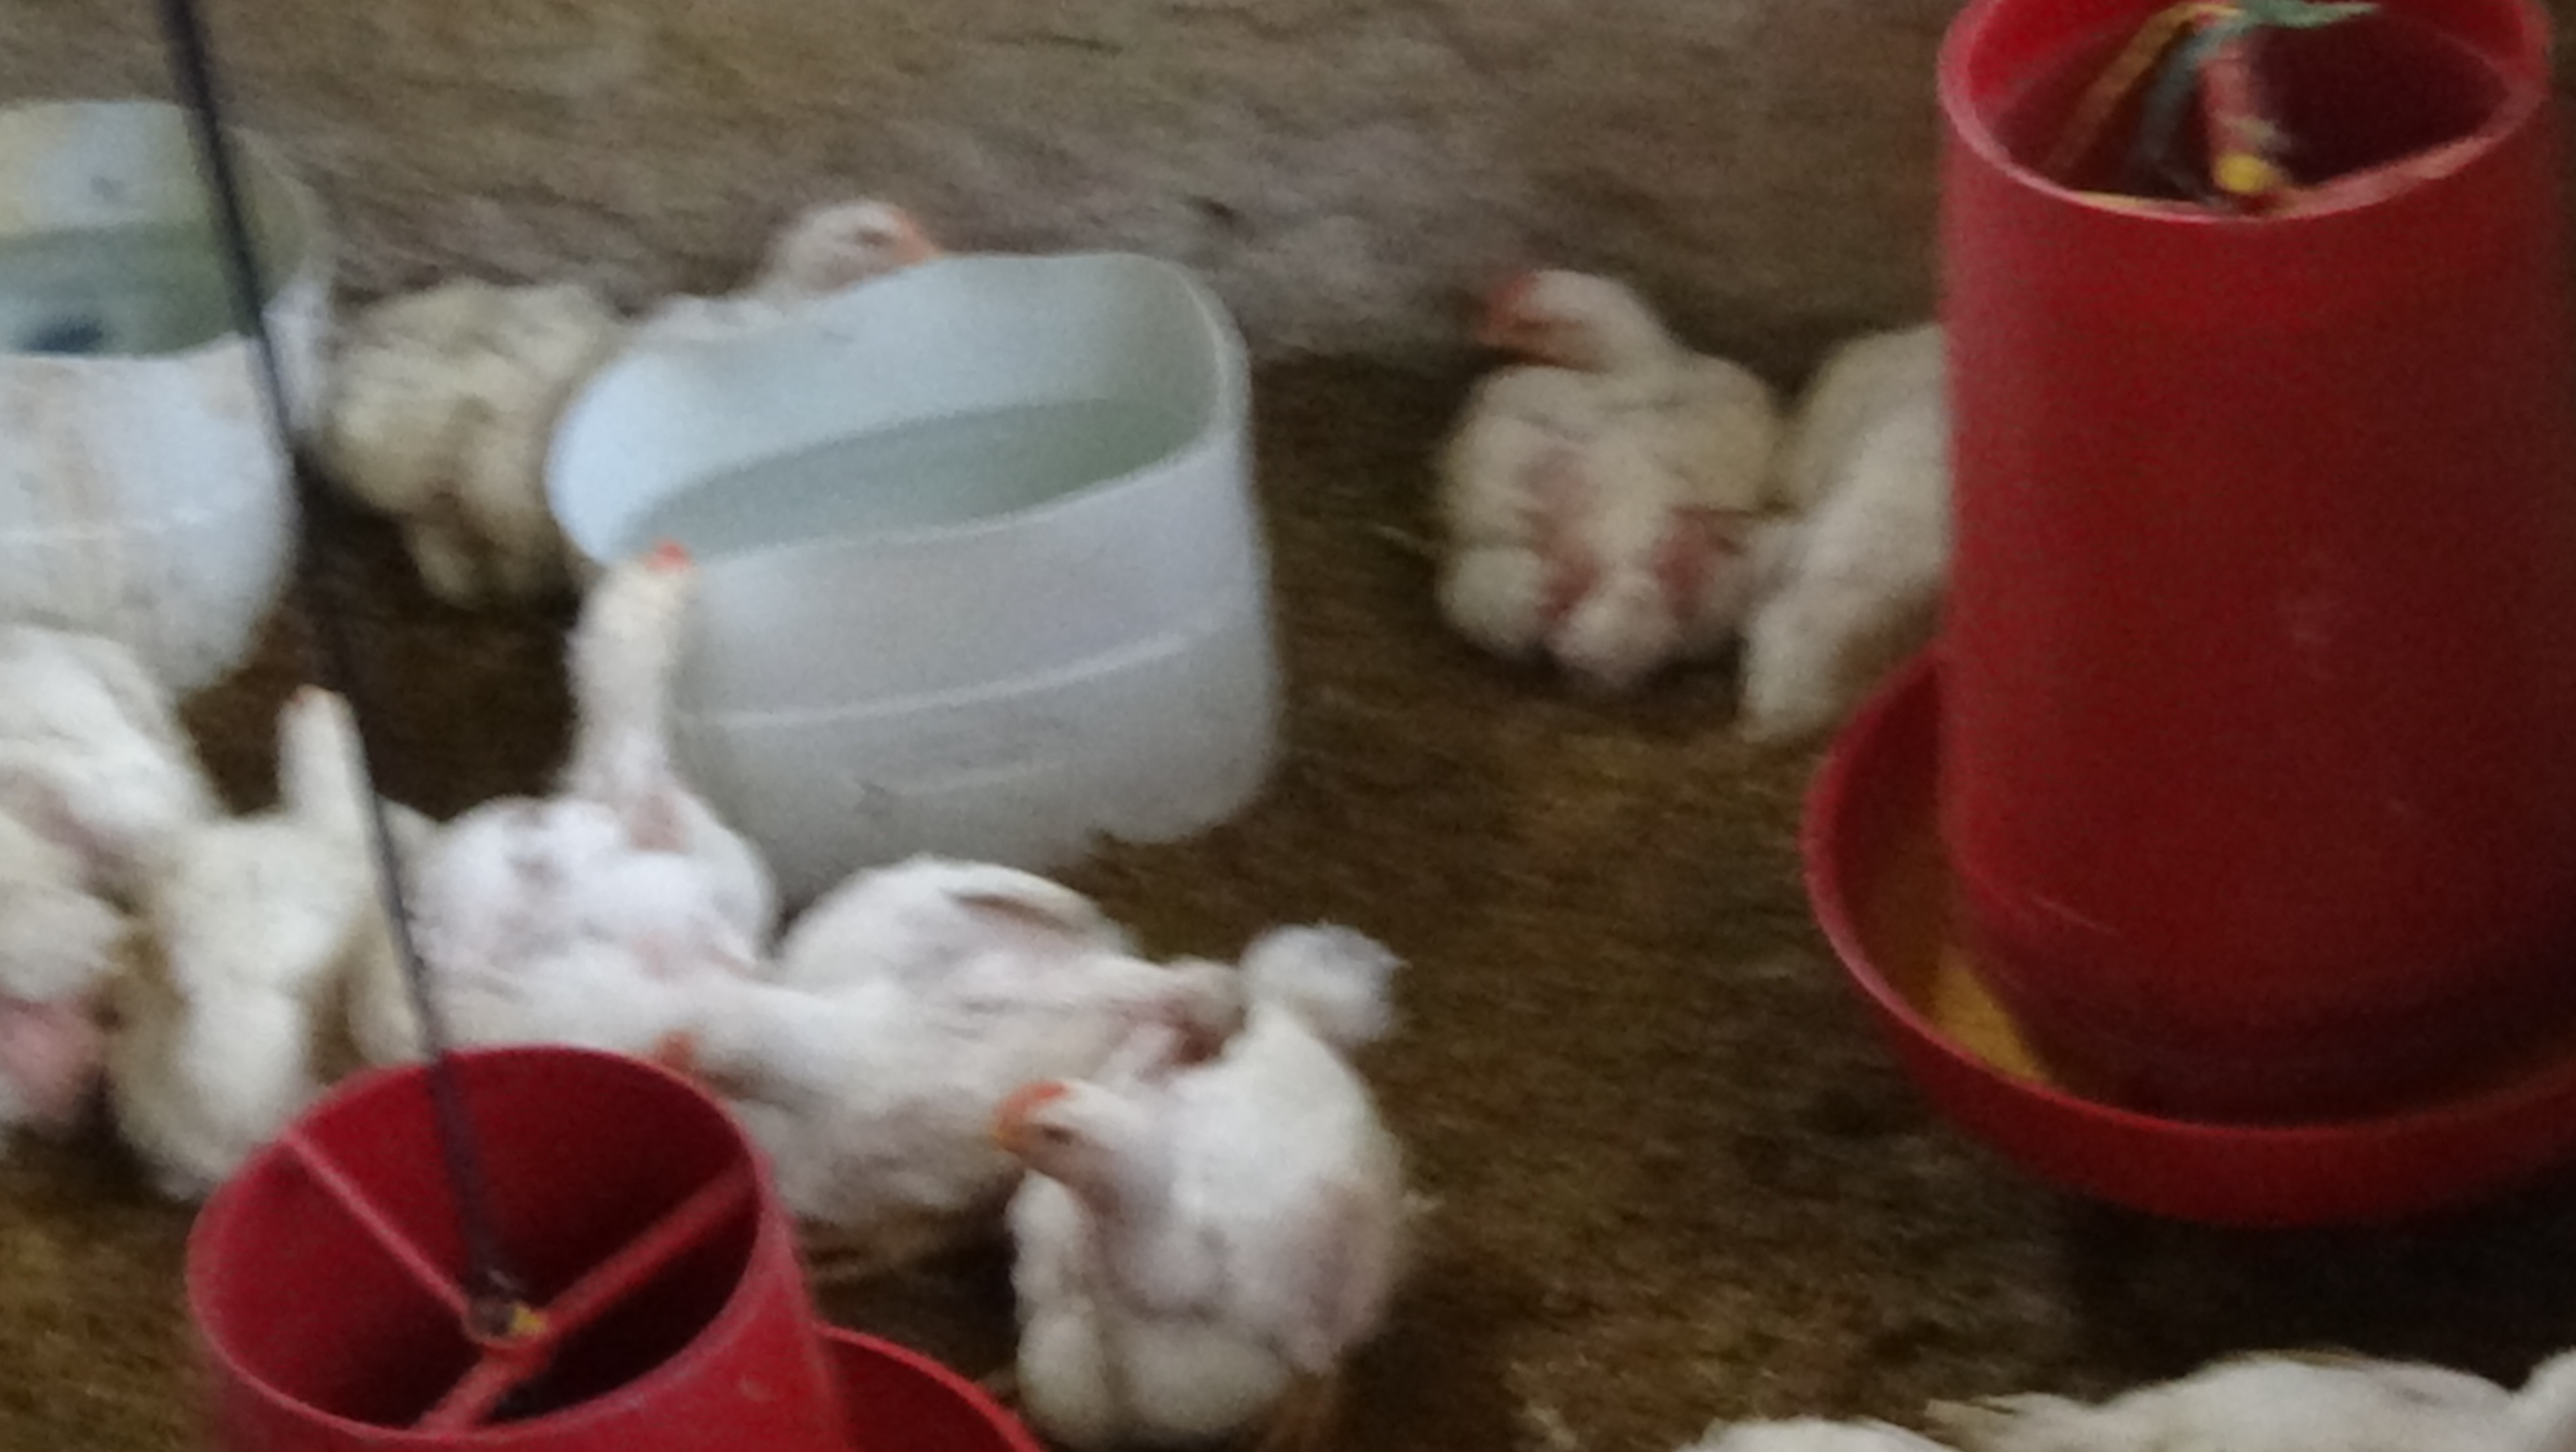Pollos: (968, 999, 1417, 1441), (437, 510, 755, 1038), (692, 802, 1026, 1227), (149, 669, 464, 1098), (1421, 248, 1741, 650), (315, 232, 589, 627), (1771, 273, 2003, 715), (725, 182, 980, 338)
